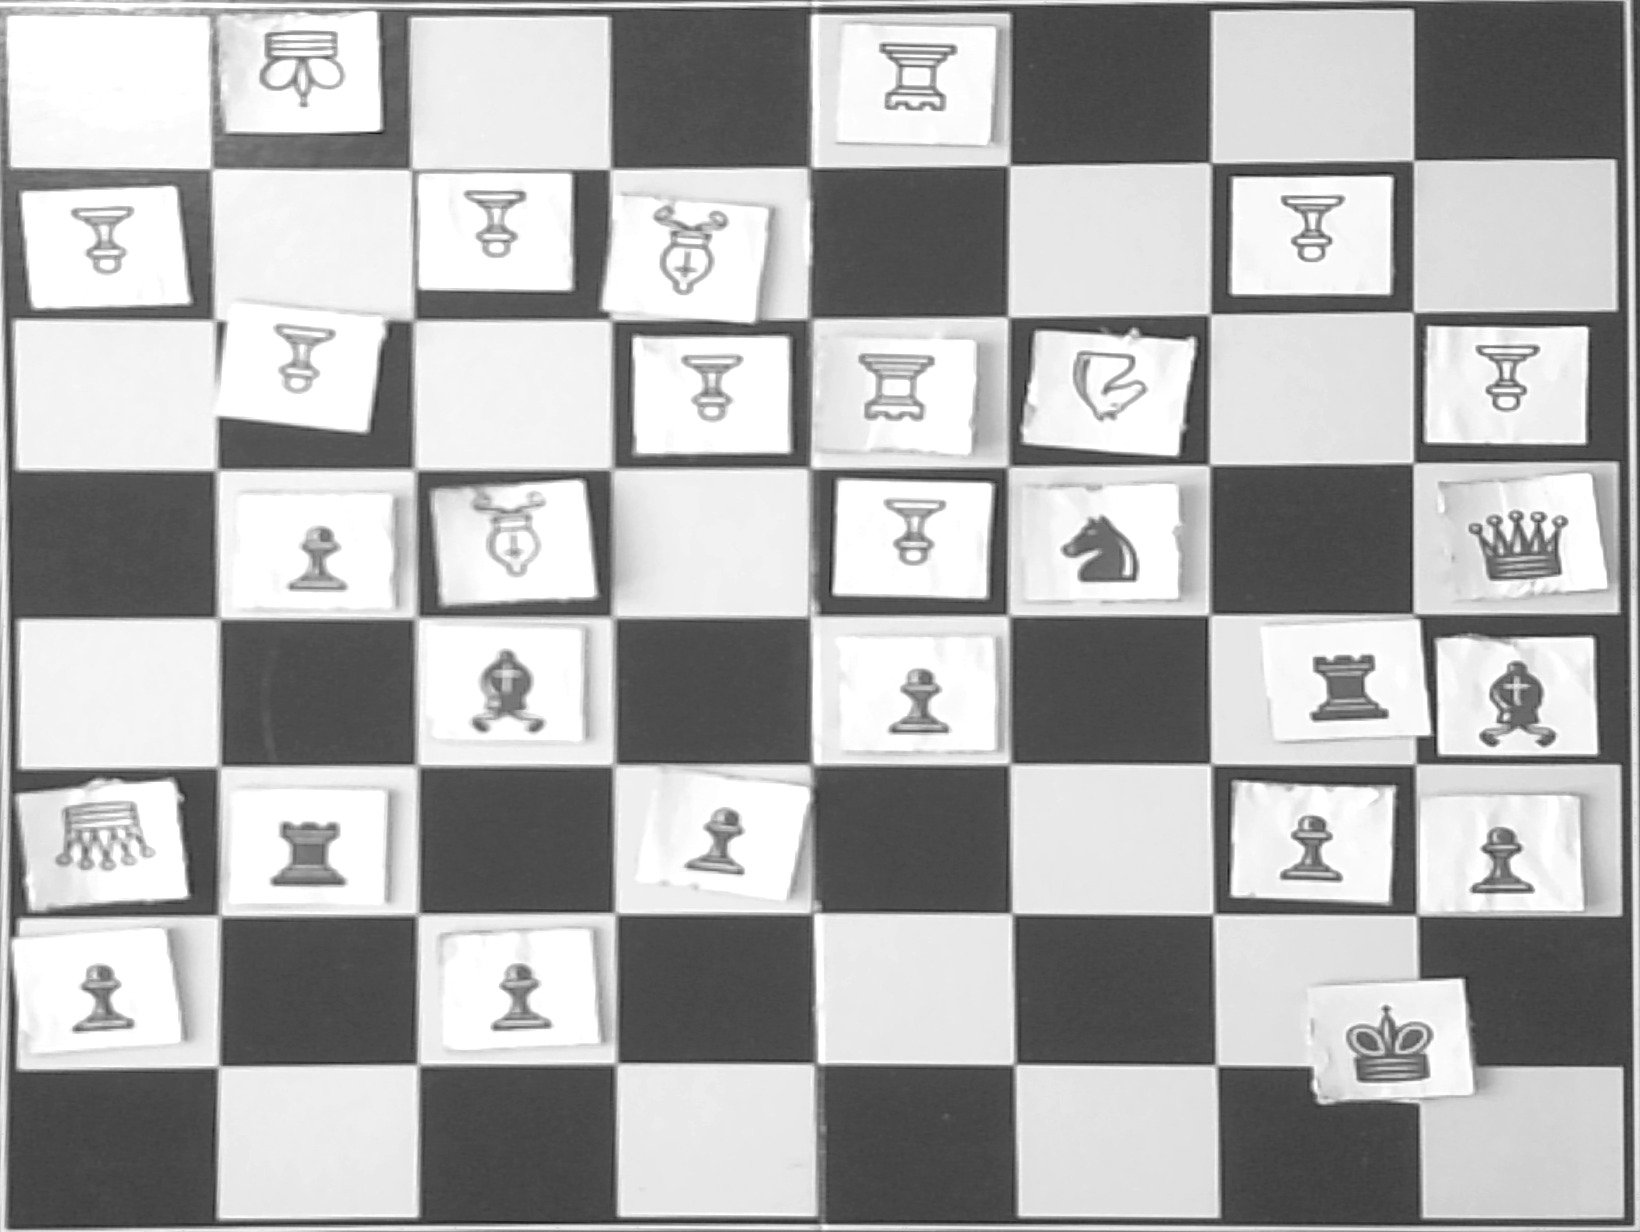b_bishop: (432, 628, 580, 740), (1442, 638, 1590, 751)
b_king: (1319, 989, 1460, 1092)
b_knight: (1024, 492, 1170, 600)
b_pawn: (465, 937, 582, 1042), (652, 780, 769, 884)
b_queen: (1445, 489, 1590, 590)
b_rook: (1280, 632, 1415, 738), (239, 795, 375, 899)
w_bishop: (439, 489, 568, 604), (624, 201, 753, 314)
w_king: (228, 19, 371, 126)
w_knight: (1028, 336, 1170, 445)
w_pawn: (859, 480, 986, 582), (238, 313, 365, 415), (434, 182, 560, 283)
w_queen: (30, 796, 177, 899)
w_rook: (852, 28, 979, 140), (826, 335, 953, 446)
